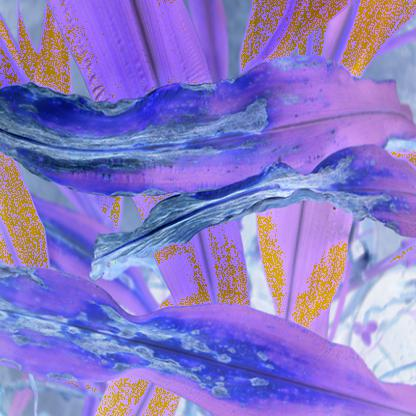Corn leaf blight: (1, 253, 404, 415), (1, 54, 409, 197), (75, 144, 415, 292)
